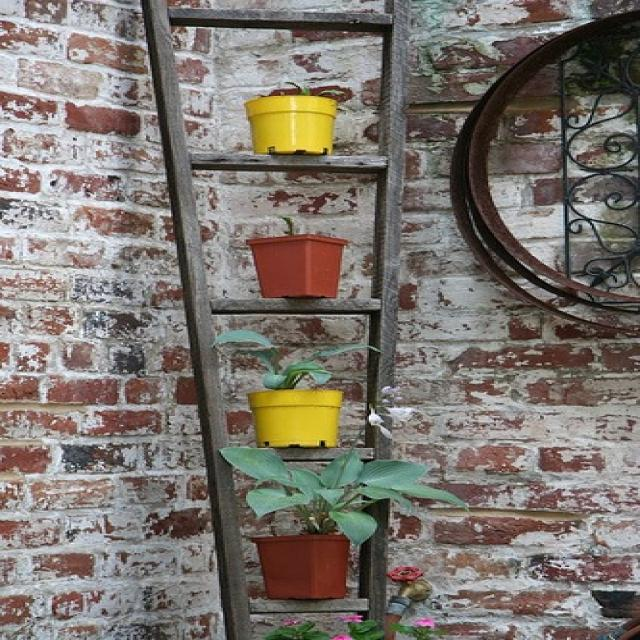pottedplant: (218, 445, 474, 601), (247, 216, 351, 301), (247, 362, 345, 450), (243, 81, 355, 155)
